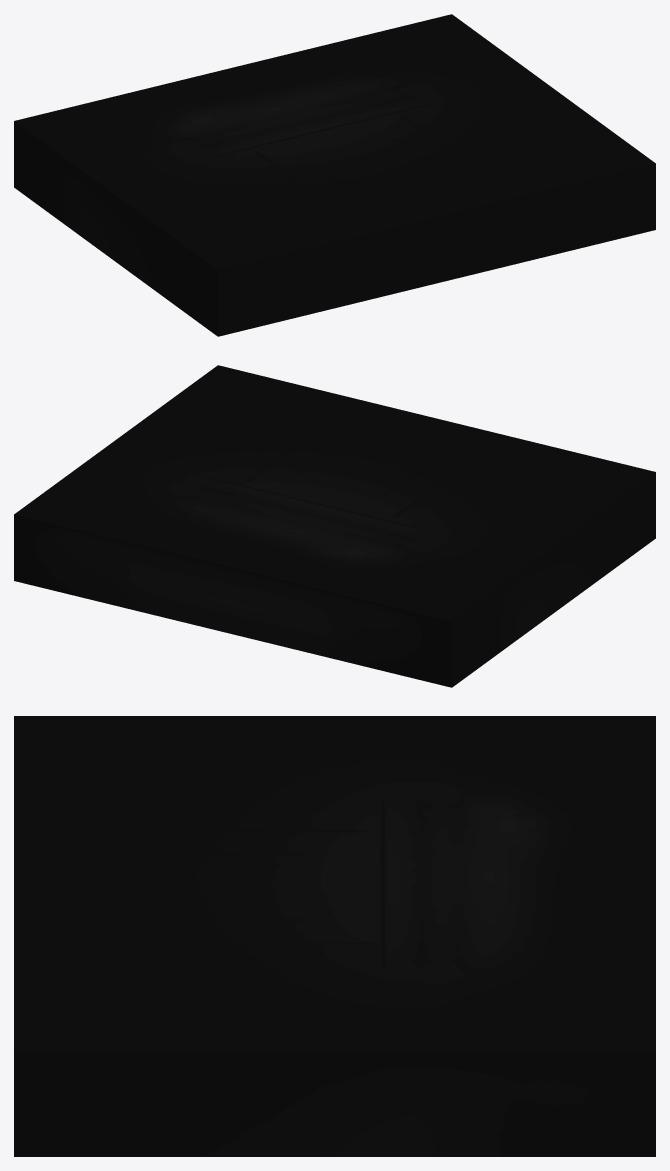
The model's file is stage.glb.
The picture shows the model from 3 angles, top to bottom: view 1: azimuth 30°, elevation 25°; view 2: azimuth 150°, elevation 25°; view 3: azimuth 270°, elevation 25°; orthographic projection. The views are drawn at different scales.
Visible parts, largest first — view 1: house_house_0.005, house_house_0.003, house; view 2: house_house_0.005, house_house_0.001, house; view 3: house_house_0.005, house_house_0.002.
Boxes of the visible parts, <box> form: house_house_0.005: <box>14,14,655,270</box>; house_house_0.003: <box>218,163,655,336</box>; house: <box>14,121,217,336</box>; house_house_0.005: <box>14,365,655,621</box>; house_house_0.001: <box>14,514,451,687</box>; house: <box>452,472,655,687</box>; house_house_0.005: <box>14,716,655,1052</box>; house_house_0.002: <box>14,1052,655,1156</box>.
Size of the model in its own units: 73.99 by 10.73 by 59.71.
22 materials, 22 textured.
